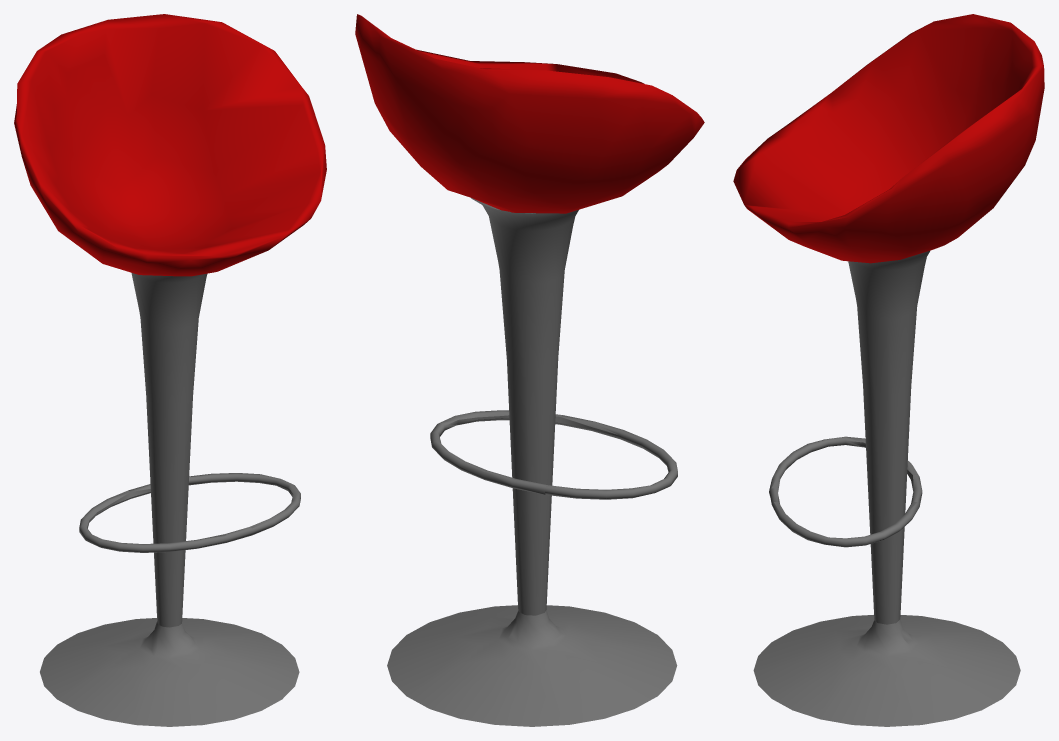
Rendered from Chair.fbx.
3 renders of one model, left to right at view 1: azimuth 30°, elevation 25°; view 2: azimuth 150°, elevation 25°; view 3: azimuth 270°, elevation 25°, orthographic. The views are drawn at different scales.
Parts seen in each view (by area): view 1: GeoSphere01, Line01, Loft01; view 2: Line01, GeoSphere01, Loft01; view 3: GeoSphere01, Line01, Loft01.
Boxes of the visible parts, <box> form: GeoSphere01: <box>14,14,326,276</box>; Line01: <box>40,272,299,726</box>; Loft01: <box>79,473,300,552</box>; Line01: <box>387,198,677,726</box>; GeoSphere01: <box>355,14,704,213</box>; Loft01: <box>430,410,677,499</box>; GeoSphere01: <box>733,14,1044,263</box>; Line01: <box>753,251,1020,726</box>; Loft01: <box>769,436,922,547</box>.
Bounding box in the file's own units: 112 × 226 × 104.
